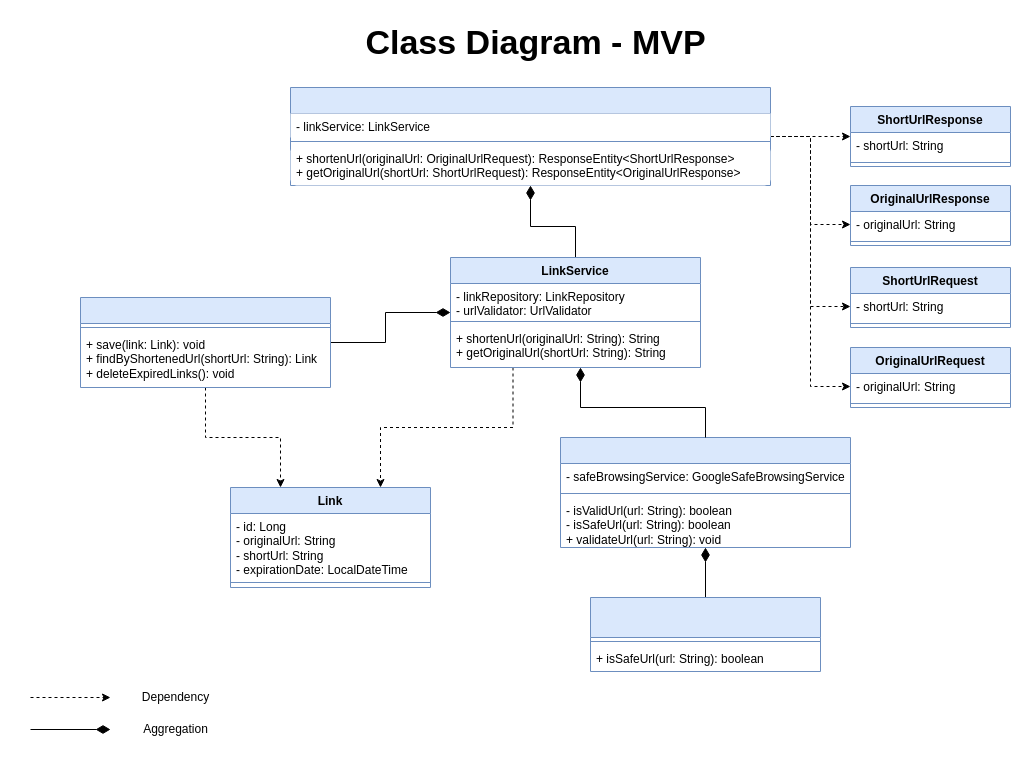
The diagram is 1028 pixels wide and 761 high, and some of its shapes have lost their labels. Here are the shapes that lost their labels. From the top down, the box of each, then its label:
(290, 86, 770, 186): LinkController
(80, 296, 330, 388): LinkRepository
(560, 436, 850, 548): UrlValidator
(590, 596, 820, 672): << external >> GoogleSafeBrowsingService
